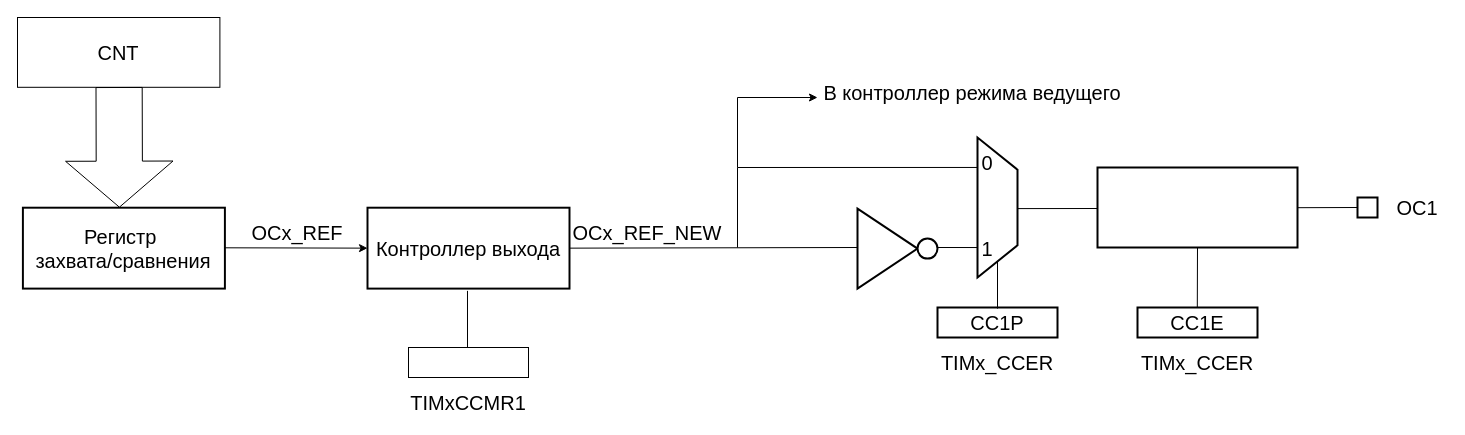
This 1465x435 diagram has some shape labels left out. The centre of each missing label's shape, as x and y in pixels:
OC1M[2:0]: (468,362)
Разрешение выхода: (1197,207)
